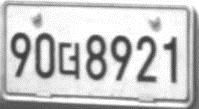0: (34, 32, 56, 79)
1: (162, 35, 180, 83)
2: (134, 35, 159, 83)
8: (85, 33, 107, 80)
9: (110, 35, 132, 81), (10, 31, 31, 79)
더: (57, 41, 80, 80)
